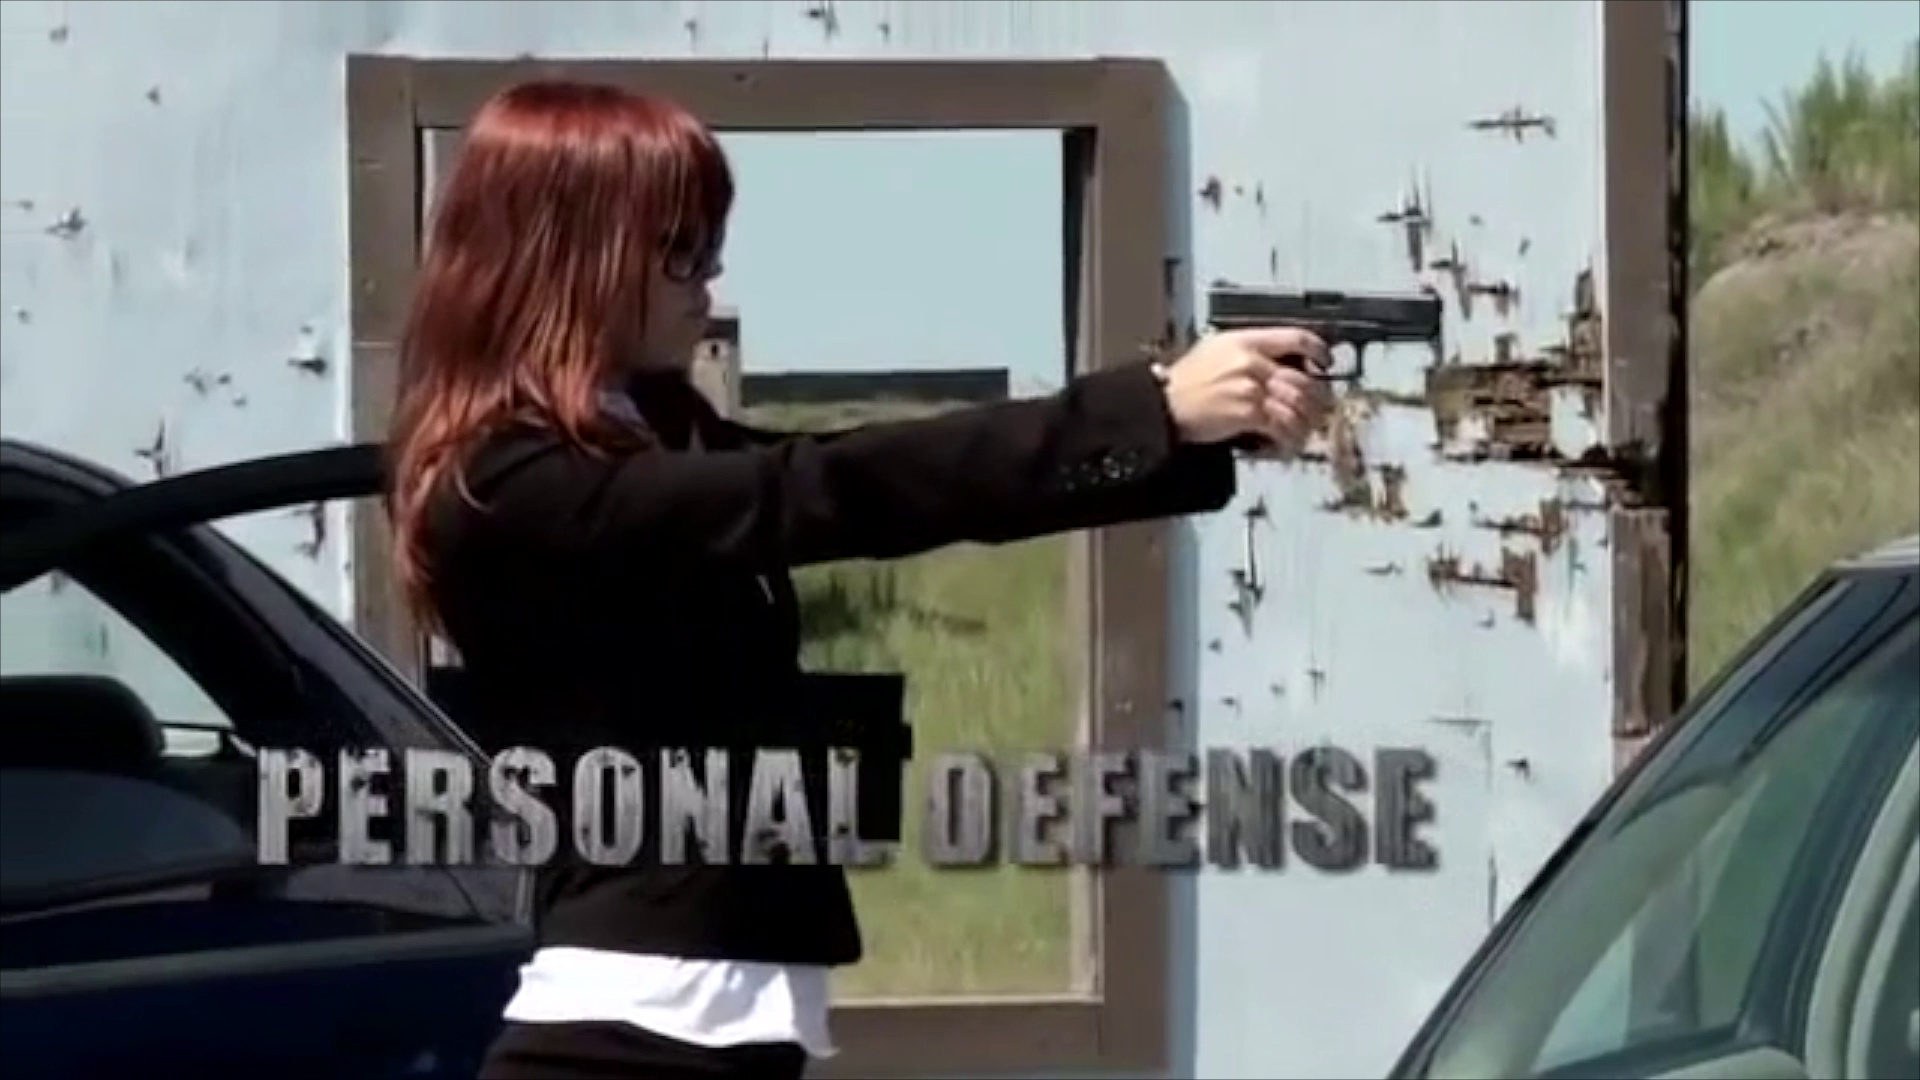gun: (1200, 272, 1455, 384)
